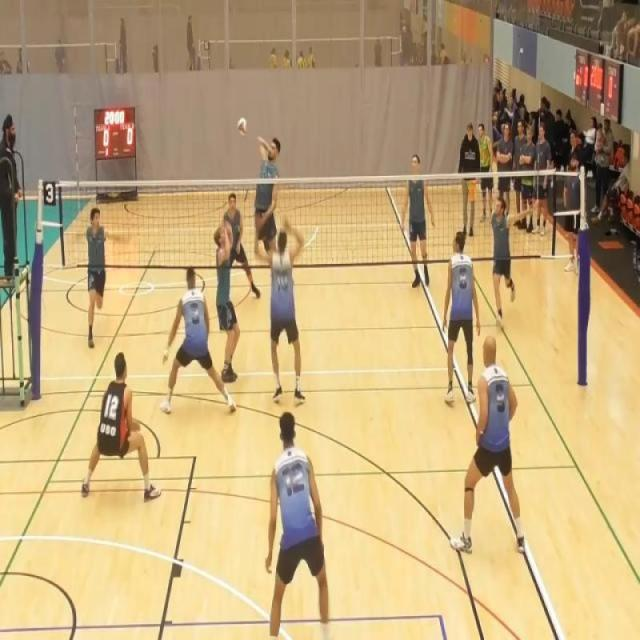volleyball: (236, 116, 248, 136)
